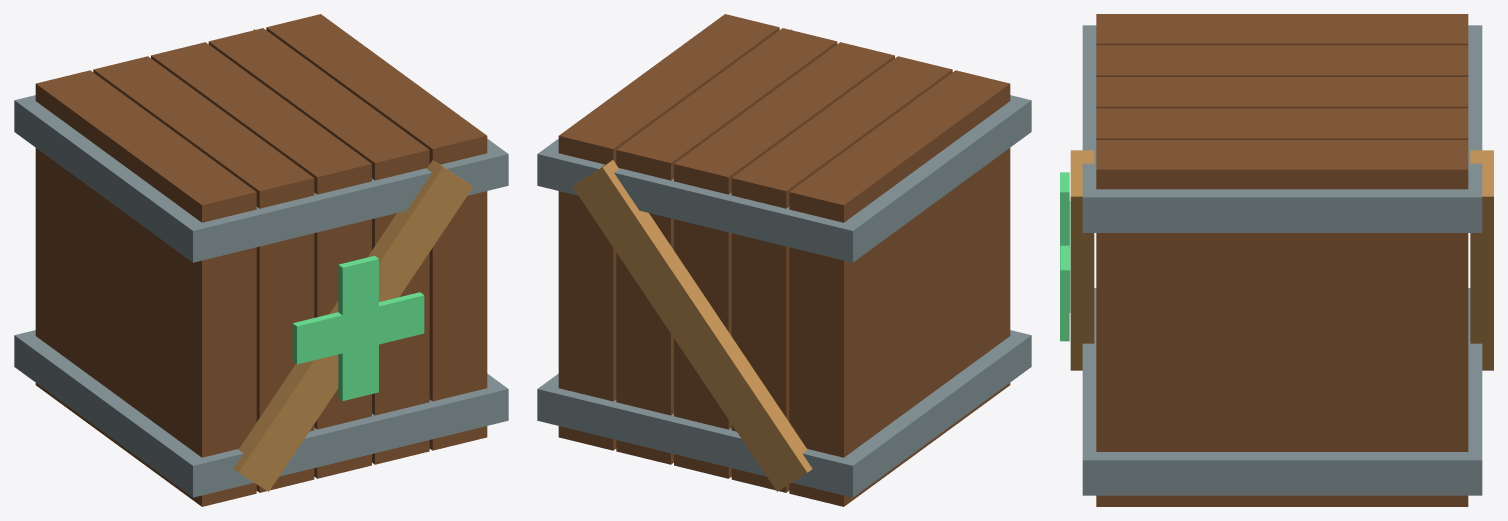
The model's file is supply.fbx.
3 renders of one model, left to right at view 1: azimuth 30°, elevation 25°; view 2: azimuth 150°, elevation 25°; view 3: azimuth 270°, elevation 25°, orthographic. The views are drawn at different scales.
Visible parts, largest first — view 1: OakPlank0, OakPlank4, IronBand.001, OakPlank1, IronBand, OakPlank3, OakPlank2, Brace, HealingMark2, HealingMark; view 2: OakPlank0, OakPlank4, OakPlank1, IronBand.001, IronBand, OakPlank3, Brace.001, OakPlank2; view 3: OakPlank4, IronBand.001, IronBand, OakPlank1, OakPlank3, OakPlank0, OakPlank2, Brace, Brace.001, HealingMark2, HealingMark.
Part boxes in pixels (<box>): OakPlank0: <box>35,70,256,506</box>; OakPlank4: <box>266,14,487,450</box>; IronBand.001: <box>14,95,508,262</box>; OakPlank1: <box>93,56,314,492</box>; IronBand: <box>14,330,508,497</box>; OakPlank3: <box>208,28,429,464</box>; OakPlank2: <box>151,42,371,478</box>; Brace: <box>233,160,473,491</box>; HealingMark2: <box>338,256,378,400</box>; HealingMark: <box>292,292,424,364</box>; OakPlank0: <box>789,70,1010,506</box>; OakPlank4: <box>558,14,779,450</box>; OakPlank1: <box>731,56,952,492</box>; IronBand.001: <box>537,95,1031,262</box>; IronBand: <box>537,330,1031,497</box>; OakPlank3: <box>616,28,837,464</box>; Brace.001: <box>572,160,812,491</box>; OakPlank2: <box>674,42,894,478</box>; OakPlank4: <box>1096,140,1468,506</box>; IronBand.001: <box>1082,25,1482,232</box>; IronBand: <box>1082,288,1482,495</box>; OakPlank1: <box>1096,45,1468,76</box>; OakPlank3: <box>1096,108,1468,139</box>; OakPlank0: <box>1096,14,1468,45</box>; OakPlank2: <box>1096,77,1468,108</box>; Brace: <box>1070,150,1094,370</box>; Brace.001: <box>1470,150,1493,370</box>; HealingMark2: <box>1060,172,1069,341</box>; HealingMark: <box>1060,201,1070,312</box>.
Size of the model in its own units: 104 by 95 by 111.
